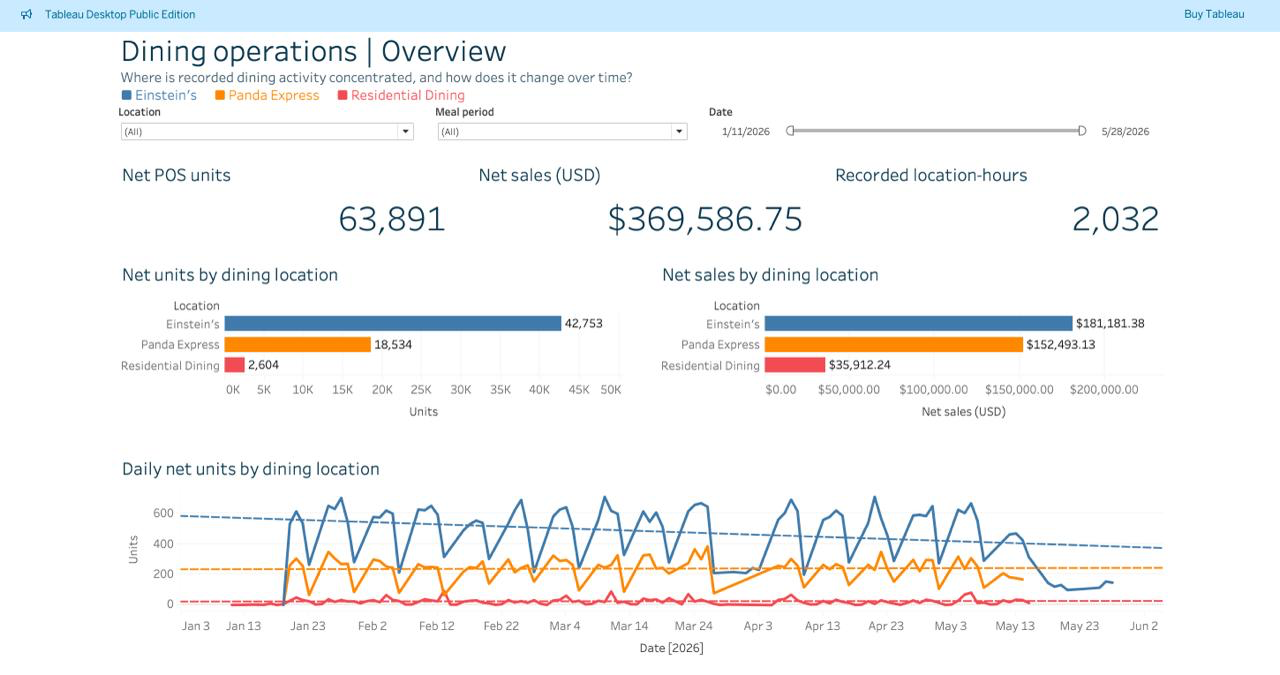

The page's visual inventory and layout, read from the dashboard file:
{"tool":"tableau","page":{"name":"01 Dining overview","canvas":[1200,780],"ordinal":0},"visuals":[{"type":"text","box":[24.4,9.2,1151.3,40.4]},{"type":"text","box":[24.4,49.6,1151.3,19.3]},{"type":"text","box":[24.4,68.8,1151.3,19.3]},{"type":"filter","title":"01 Units by location","param":"[federated.servesmart_hourly].[none:Location:nk]","box":[24.4,89,328.1,53.2]},{"type":"filter","title":"01 Units by location","param":"[federated.servesmart_hourly].[none:DayPart:nk]","box":[373.1,89,281.3,53.2]},{"type":"filter","title":"01 Units by location","param":"[federated.servesmart_hourly].[none:Date:qk]","box":[675,89,500.6,53.2]},{"type":"worksheet","title":"KPI Net units","mark":"Text","box":[24.4,150.5,365.6,89.9]},{"type":"worksheet","title":"KPI Net sales","mark":"Text","box":[417.2,150.5,365.6,89.9]},{"type":"worksheet","title":"KPI Recorded hours","mark":"Text","box":[810,150.5,365.6,89.9]},{"type":"worksheet","title":"01 Units by location","mark":"Bar","rows":["Location"],"cols":["Units"],"box":[16.9,252.4,571.9,200]},{"type":"worksheet","title":"01 Sales by location","mark":"Bar","rows":["Location"],"cols":["NetSales"],"box":[611.3,252.4,571.9,200]},{"type":"worksheet","title":"01 Daily units","mark":"Line","rows":["Units"],"cols":["Date"],"box":[16.9,468,1166.3,247.8]},{"type":"text","box":[24.4,727.7,1151.3,45]}]}

Visuals, with their boxes on the page's 1200x780 design canvas (x1, y1, x2, y2). These are canvas units, not pixel positions in the 1280x675 screenshot, which may show the page scaled, cropped or inside an application window:
text: rect(24, 9, 1176, 50)
text: rect(24, 50, 1176, 69)
text: rect(24, 69, 1176, 88)
"01 Units by location" filter: rect(24, 89, 352, 142)
"01 Units by location" filter: rect(373, 89, 654, 142)
"01 Units by location" filter: rect(675, 89, 1176, 142)
"KPI Net units" worksheet (Text marks): rect(24, 150, 390, 240)
"KPI Net sales" worksheet (Text marks): rect(417, 150, 783, 240)
"KPI Recorded hours" worksheet (Text marks): rect(810, 150, 1176, 240)
"01 Units by location" worksheet (Bar marks): rect(17, 252, 589, 452)
"01 Sales by location" worksheet (Bar marks): rect(611, 252, 1183, 452)
"01 Daily units" worksheet (Line marks): rect(17, 468, 1183, 716)
text: rect(24, 728, 1176, 773)
